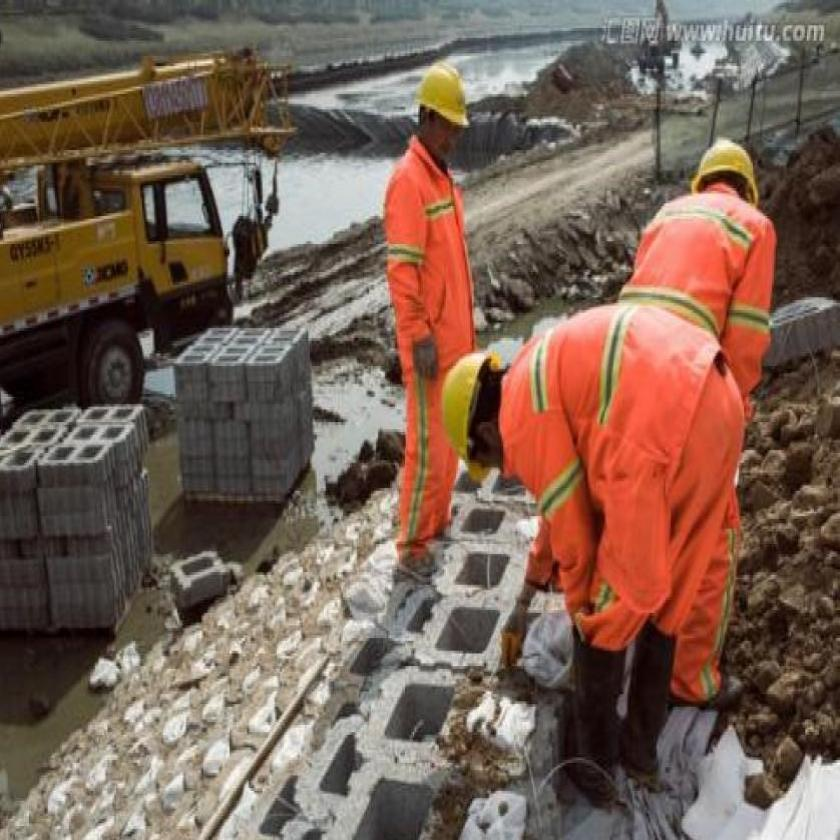Con_casco: (437, 352, 515, 478), (414, 66, 478, 190), (686, 132, 767, 210)
